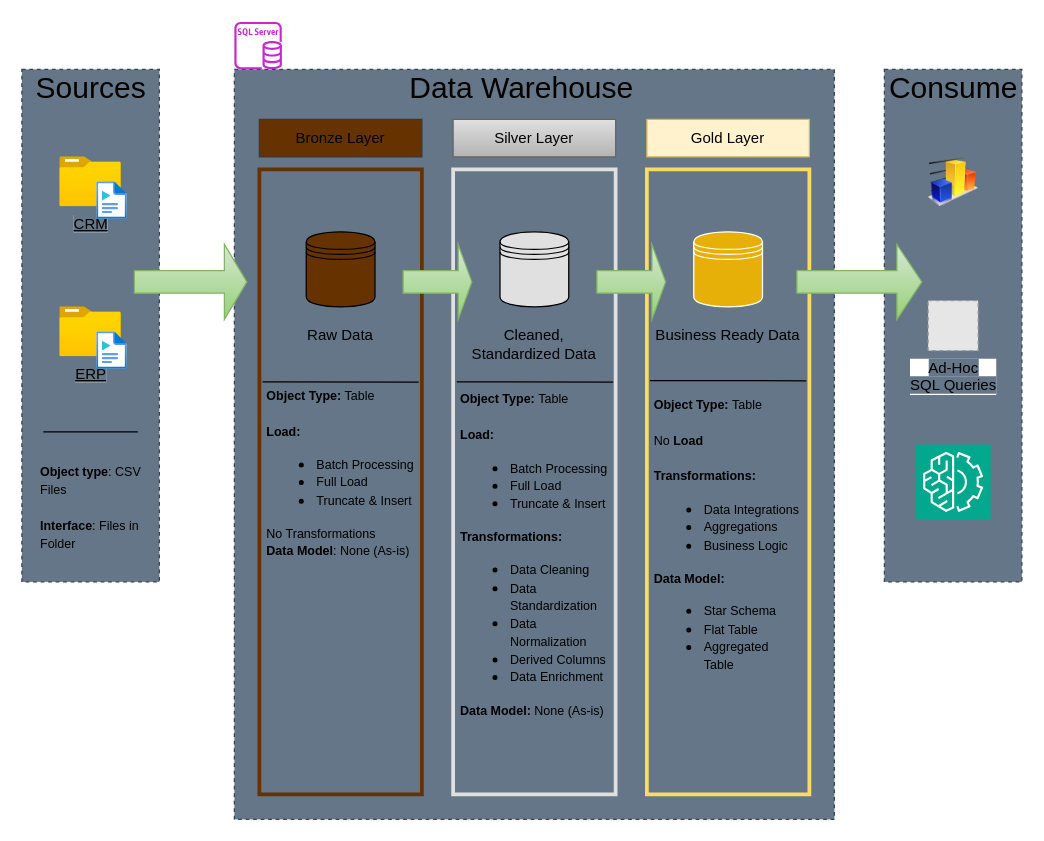
The diagram is 1044 pixels wide and 841 high, and some of its shapes have lost their labels. Grey dashed boxes stand in for pictures. Each missing label, with the centre of its shape:
"BI & Reporting" belongs at (x=953, y=181).
"Machine Learning" belongs at (x=952, y=481).
